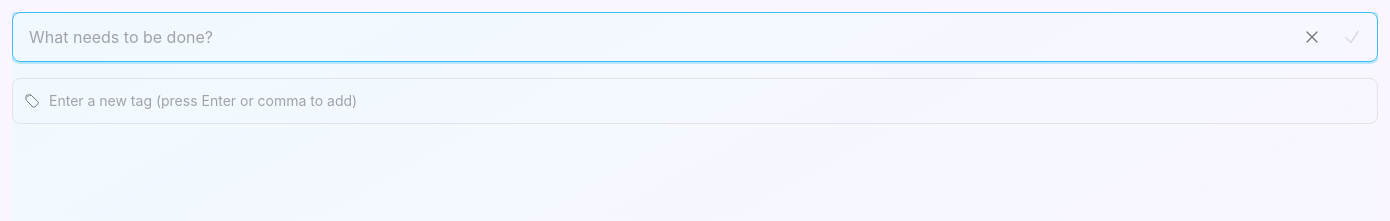
Test: GlobalTaskForm Component › adds a tag when Enter key is pressed
The width and height of the screenshot is (1390, 221).
Type "new-tag" into the field with test id "tag-input" at (695, 101), box [12, 78, 1378, 124]
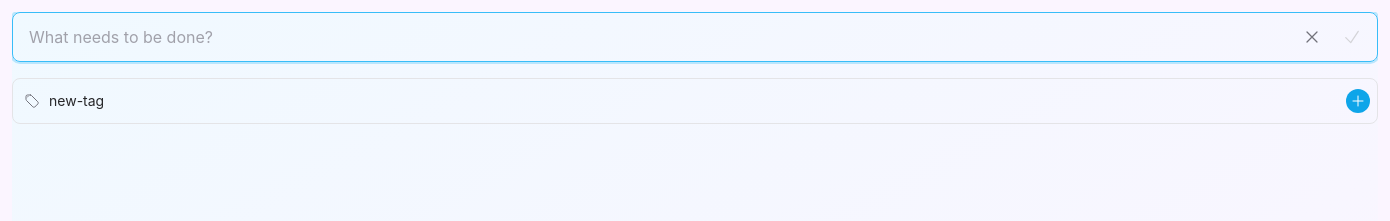
Press Enter in the field with test id "tag-input", box [12, 78, 1378, 124]
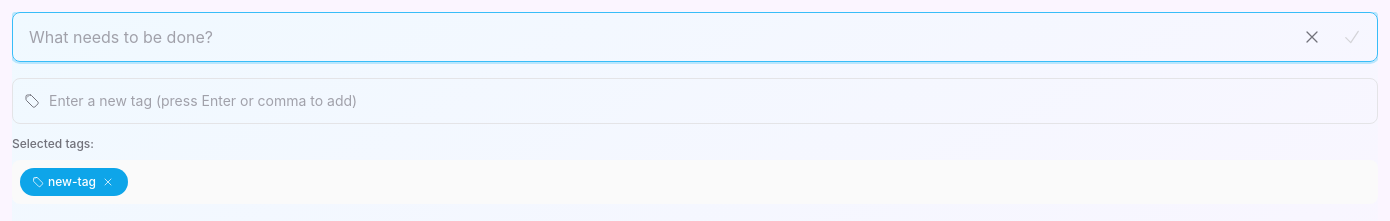
Expected: the element with test id "selected-tags" is shown, [12, 136, 1378, 204]
Expected: the text "new-tag" is shown, [48, 174, 96, 190]
Expected: the field with test id "tag-input" is empty, [12, 78, 1378, 124]
